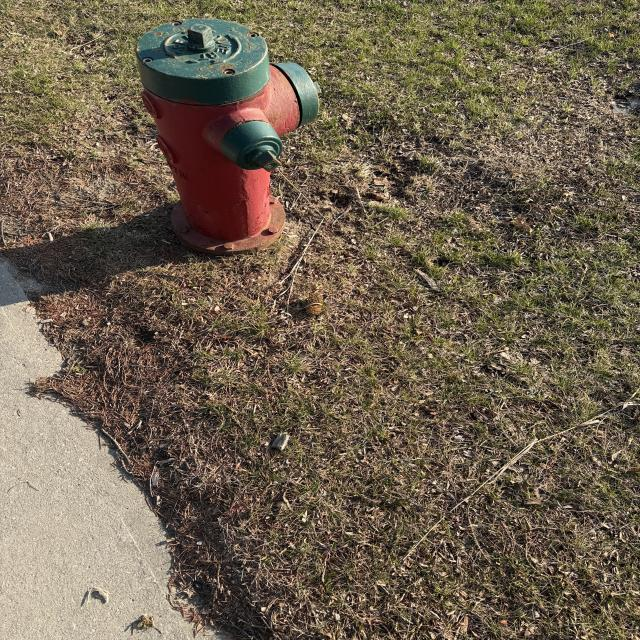Fire hydrant: (135, 18, 322, 255)
